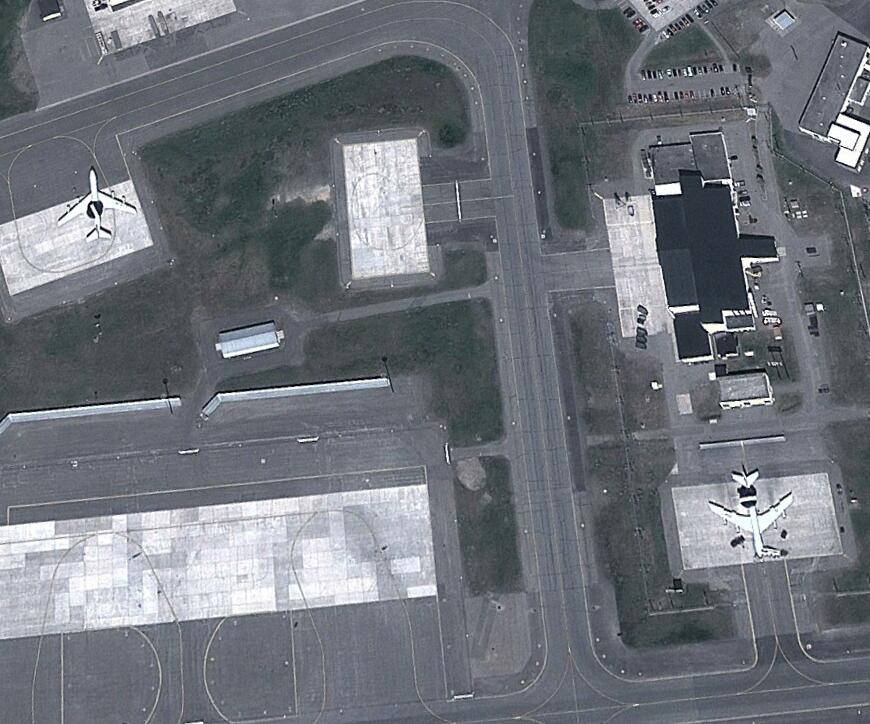A7: (708, 467, 796, 560), (54, 166, 140, 242)
